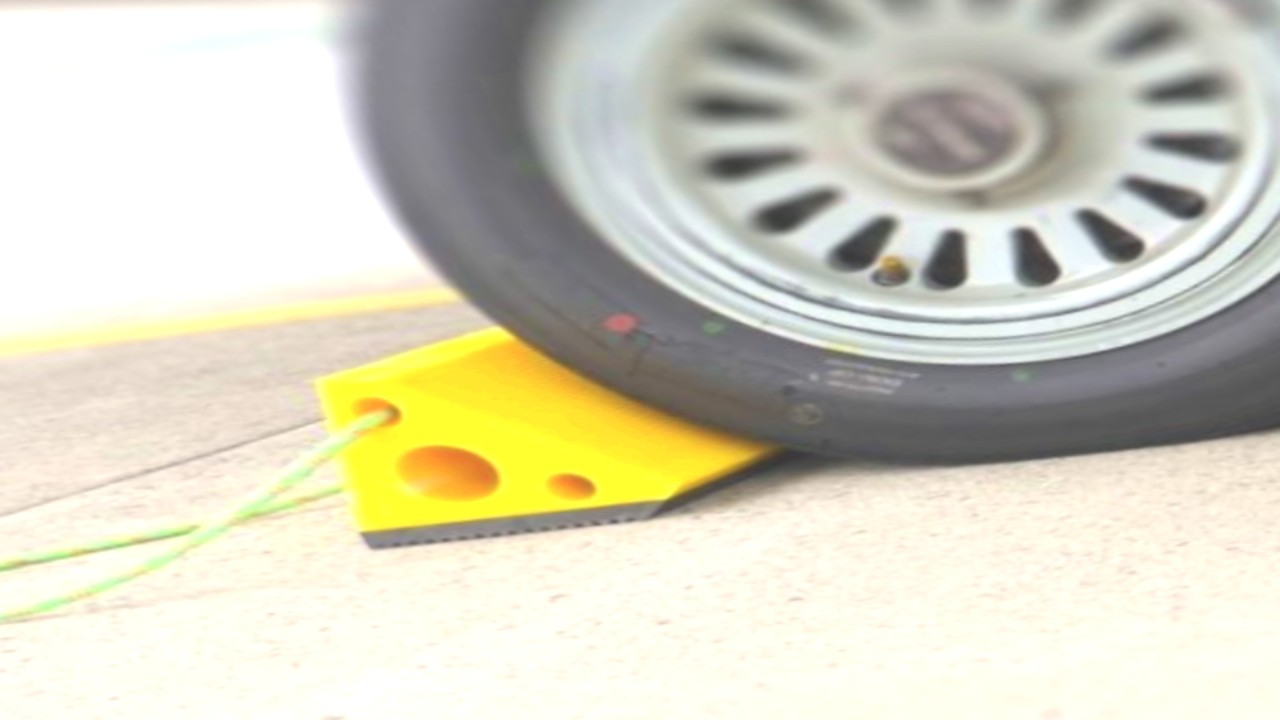chock: (220, 276, 822, 565)
wheel: (115, 0, 1280, 543)
